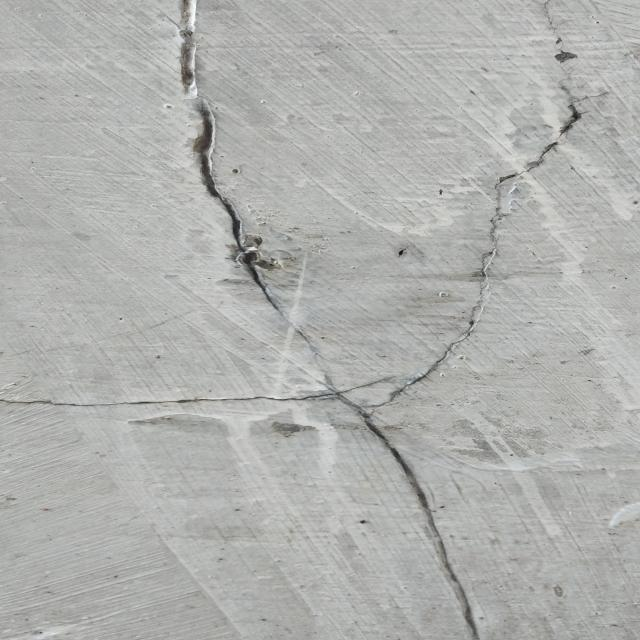Crack: (175, 1, 581, 640)
